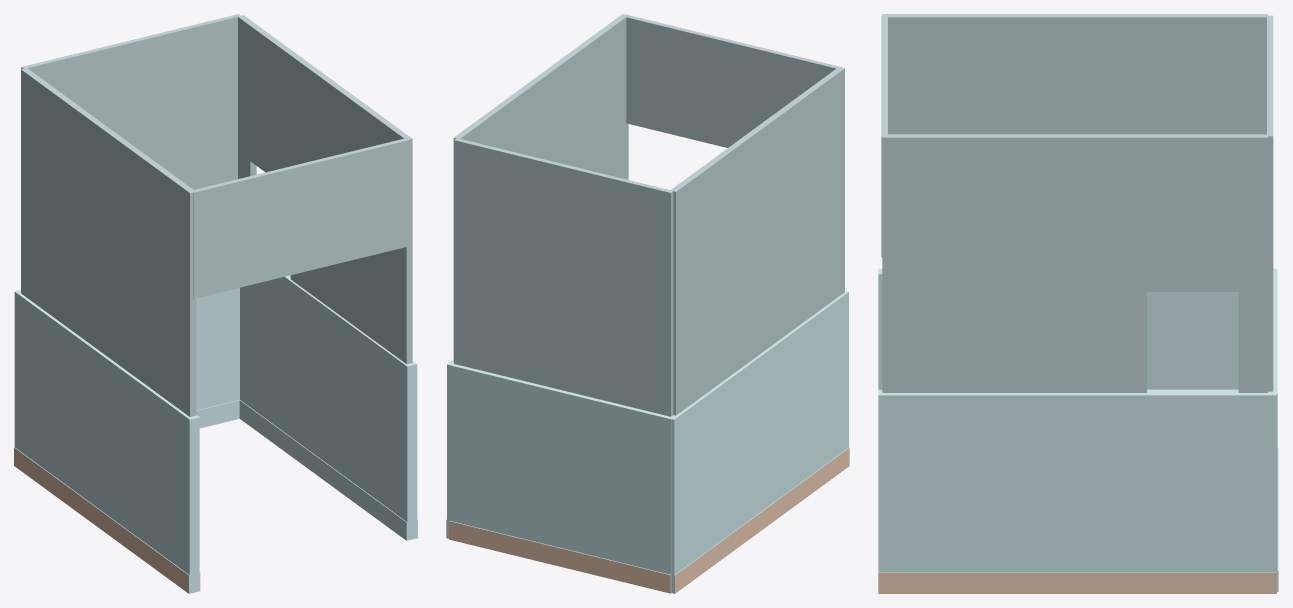
File: walls.dae
3 views of the same model, side by side, from view 1: azimuth 30°, elevation 25°; view 2: azimuth 150°, elevation 25°; view 3: azimuth 270°, elevation 25° (orthographic). The views are drawn at different scales.
Visible parts, largest first — view 1: Glass, Wall.001, Wall, Wall.003; view 2: Glass, Wall.003, Wall.001, Wall; view 3: Glass, Wall, Wall.001, Wall.003.
Part boxes in pixels (left/top/right/bottom): Glass: left=21, top=14, right=412, bottom=416; Wall.001: left=14, top=291, right=200, bottom=593; Wall: left=239, top=275, right=417, bottom=540; Wall.003: left=17, top=287, right=239, bottom=428; Glass: left=453, top=14, right=844, bottom=416; Wall.003: left=449, top=362, right=675, bottom=593; Wall.001: left=668, top=291, right=849, bottom=593; Wall: left=446, top=359, right=457, bottom=538; Glass: left=881, top=14, right=1273, bottom=392; Wall: left=878, top=389, right=1276, bottom=593; Wall.001: left=878, top=268, right=1276, bottom=389; Wall.003: left=1259, top=270, right=1278, bottom=591.
Size of the model in its own units: 1.12 by 1.49 by 1.86.
